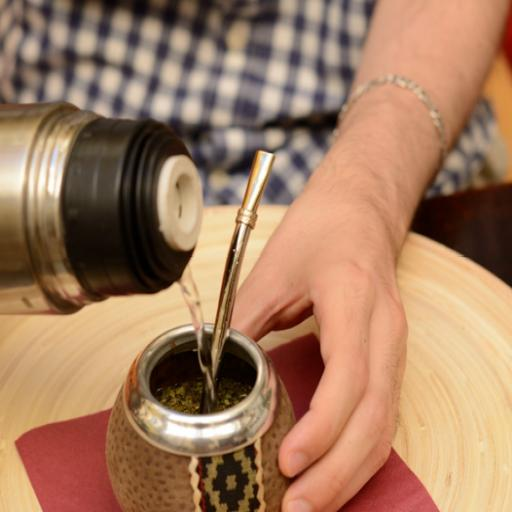mate: (97, 306, 300, 512)
termo: (0, 98, 195, 288)
